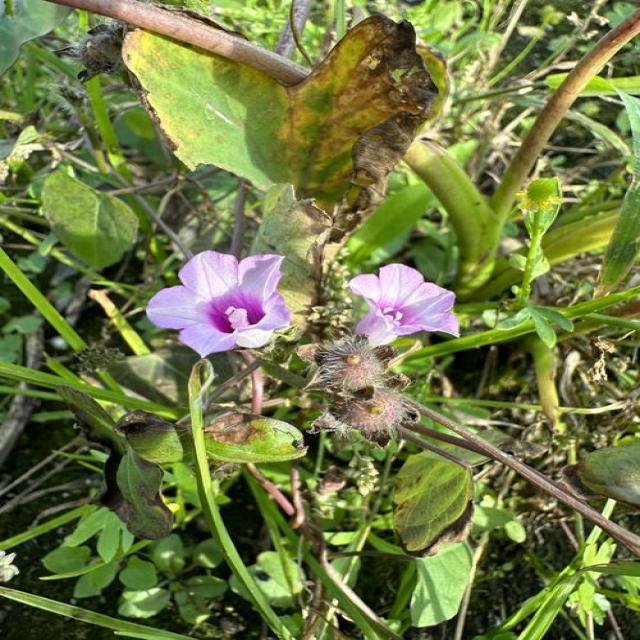ipomoea: (140, 248, 296, 360), (342, 261, 463, 349)
